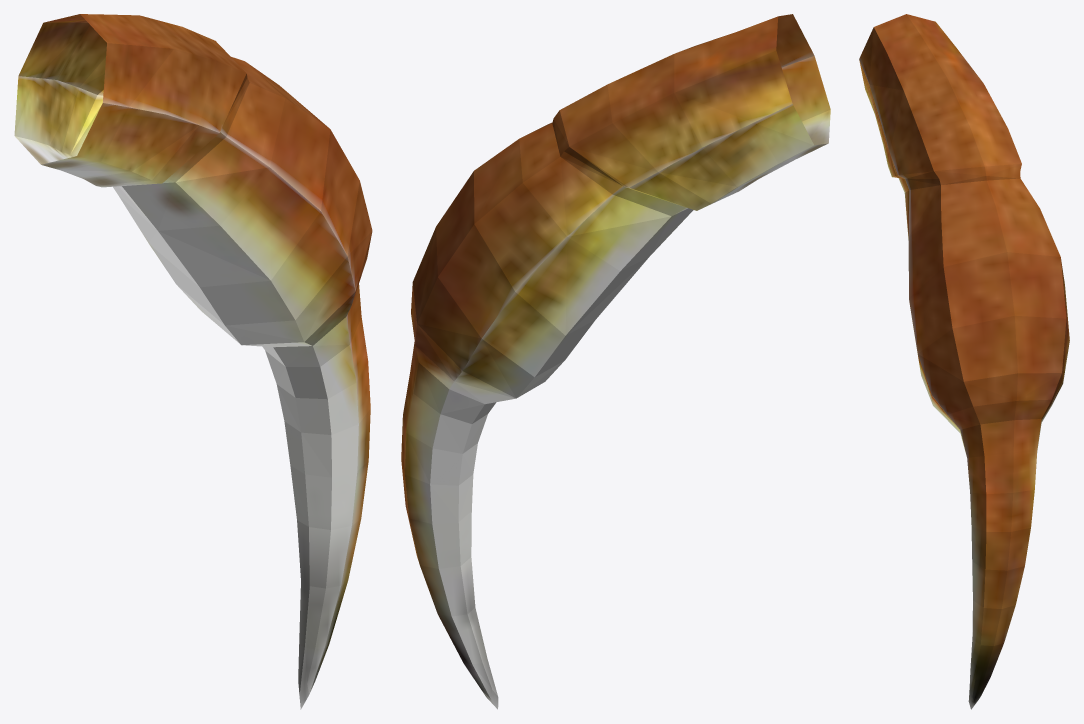
File: CrabPie_3_Izq.obj
3 renders of one model, left to right at view 1: azimuth 30°, elevation 25°; view 2: azimuth 150°, elevation 25°; view 3: azimuth 270°, elevation 25°, orthographic. The views are drawn at different scales.
Visible parts, largest first — view 1: CrabPie_3_Izq:polySurface23; view 2: CrabPie_3_Izq:polySurface23; view 3: CrabPie_3_Izq:polySurface23.
Boxes of the visible parts, <box> form: CrabPie_3_Izq:polySurface23: <box>14,14,372,709</box>; CrabPie_3_Izq:polySurface23: <box>401,14,830,709</box>; CrabPie_3_Izq:polySurface23: <box>859,14,1069,709</box>.
Bounding box in the file's own units: 0.2211 × 0.4222 × 0.1347.
1 material, 1 textured.
